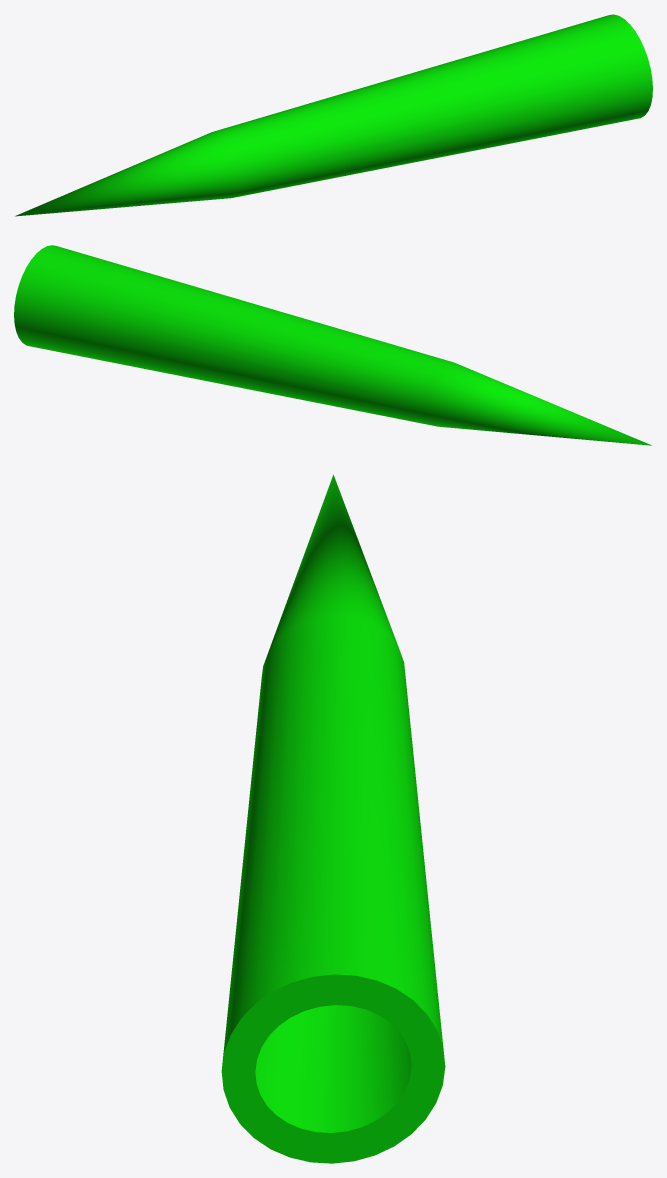
The model's file is tip.fbx.
The picture shows the model from 3 angles, top to bottom: view 1: azimuth 30°, elevation 25°; view 2: azimuth 150°, elevation 25°; view 3: azimuth 270°, elevation 25°; orthographic projection. The views are drawn at different scales.
Visible parts, largest first — view 1: Cube.001; view 2: Cube.001; view 3: Cube.001.
Boxes of the visible parts, x1,y1,x2,y2 form: Cube.001: [15, 14, 652, 216]; Cube.001: [14, 245, 651, 445]; Cube.001: [221, 474, 445, 1163].
Bounding box in the file's own units: 6.31 × 0.9326 × 1.
